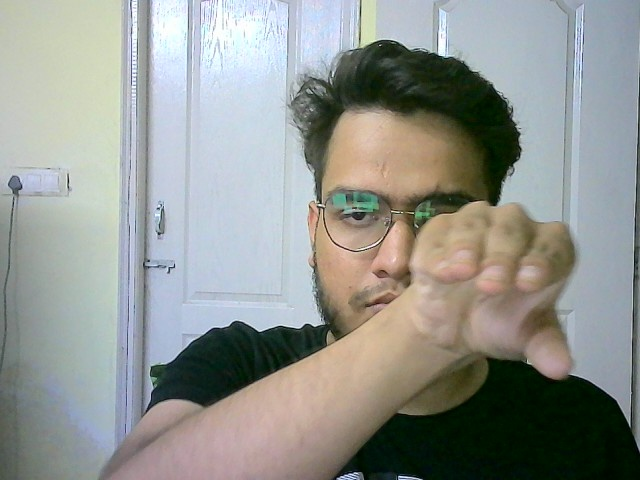No: (394, 198, 594, 395)
